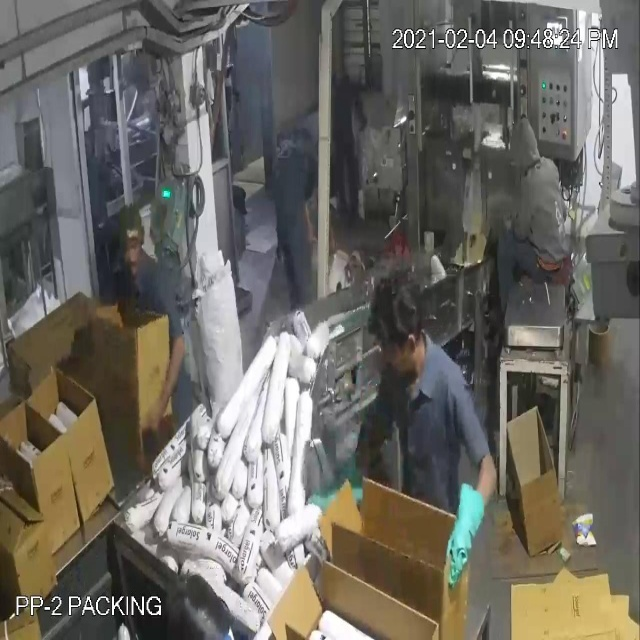Guantes: (299, 451, 386, 534), (439, 473, 489, 600)
Sin_guantes: (136, 324, 192, 441)
